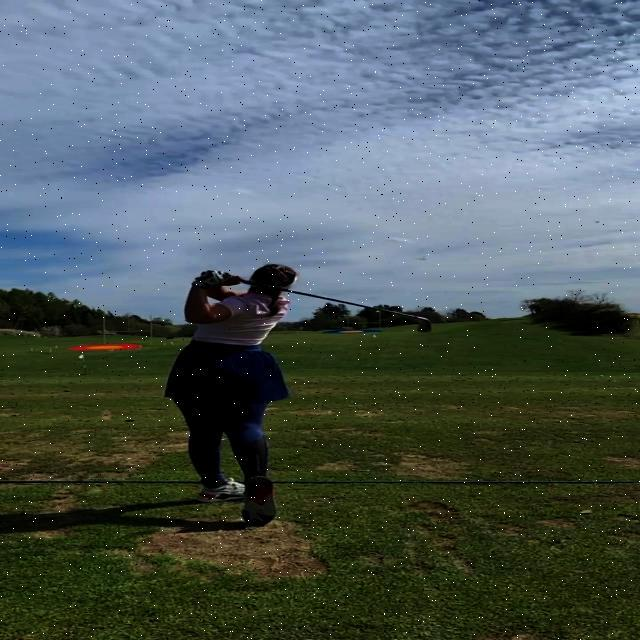golf club-handle: (201, 270, 433, 337)
golf club-head: (413, 318, 431, 336)
